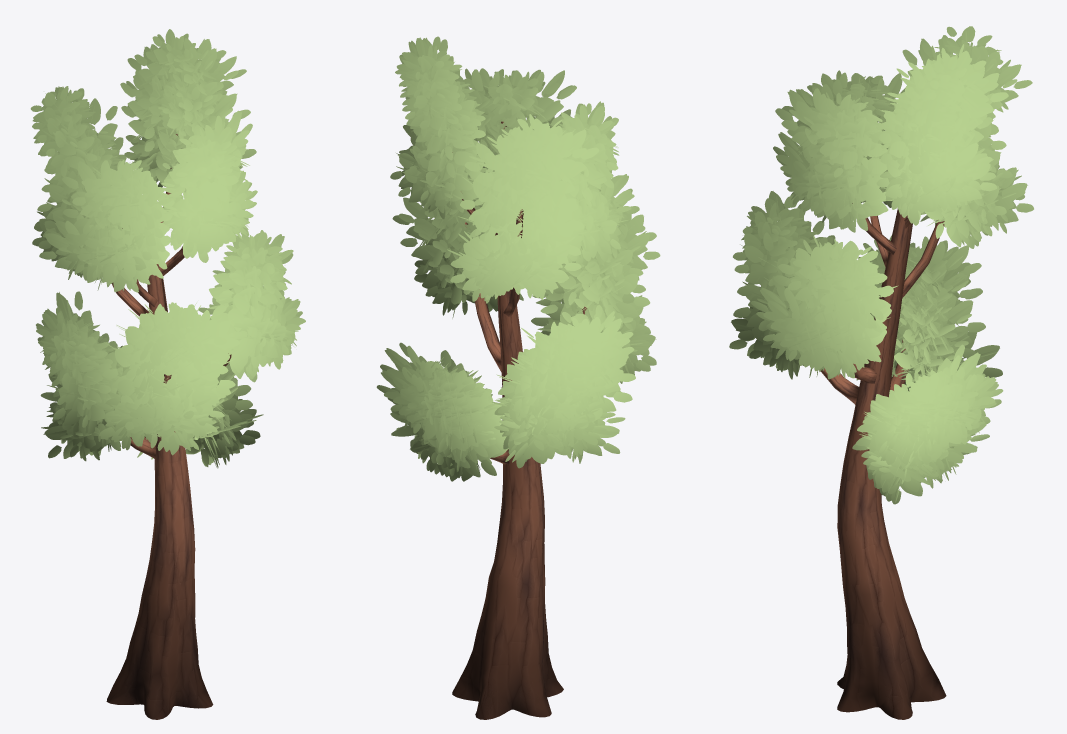
The model's file is tree_common_3.glb.
3 views of the same model, side by side, from view 1: azimuth 30°, elevation 25°; view 2: azimuth 150°, elevation 25°; view 3: azimuth 270°, elevation 25° (orthographic). The views are drawn at different scales.
Visible parts, largest first — view 1: CommonTree_3; view 2: CommonTree_3; view 3: CommonTree_3.
Boxes of the visible parts, <box> form: CommonTree_3: <box>30,29,305,719</box>; CommonTree_3: <box>376,36,660,719</box>; CommonTree_3: <box>729,26,1033,719</box>.
Size of the model in its own units: 1.51 by 3.5 by 1.57.
Materials: 2 (2 with a texture image).
